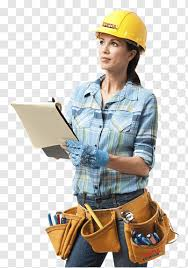Person_wearing_helmet: (89, 6, 151, 46)
